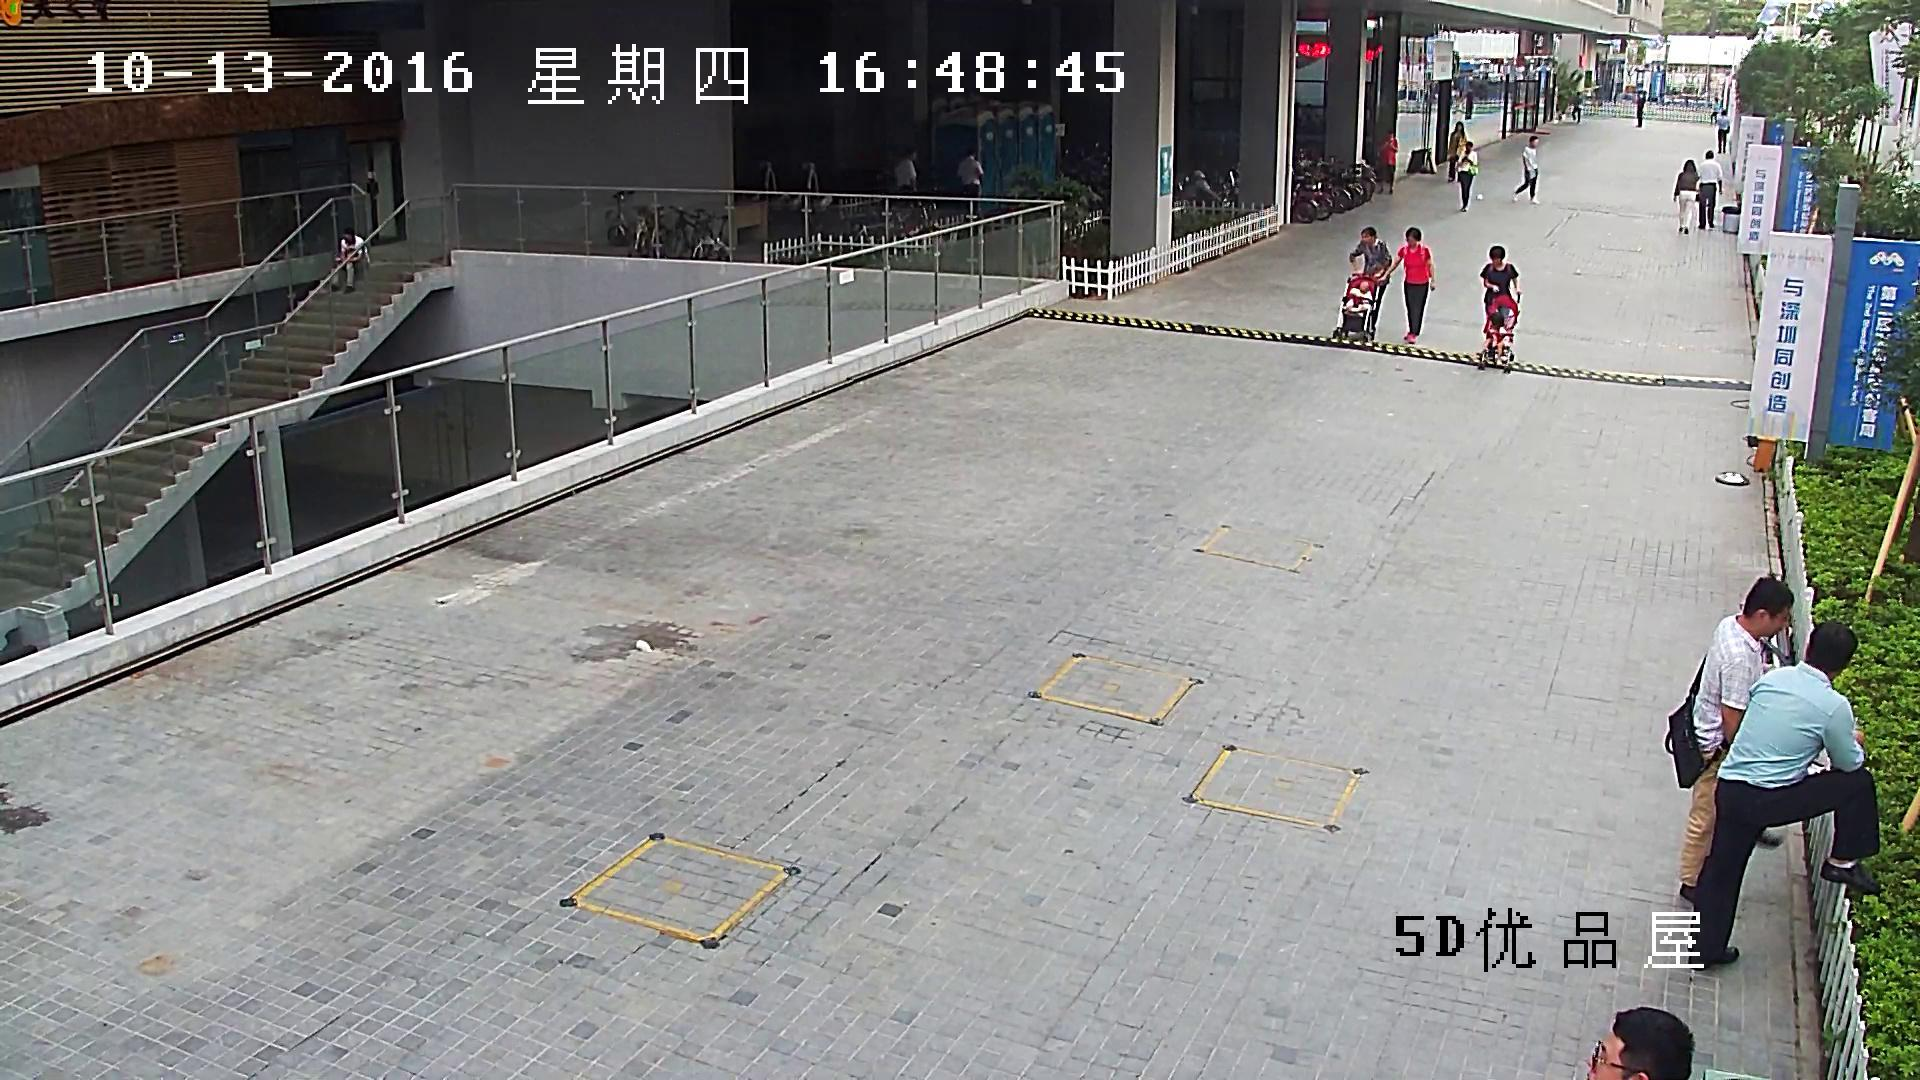person: (1695, 622, 1880, 973), (1667, 579, 1795, 907), (1376, 226, 1434, 345), (1334, 226, 1391, 338), (1481, 246, 1519, 365), (1480, 246, 1519, 347), (1350, 227, 1390, 323), (329, 230, 369, 293), (1510, 136, 1542, 205), (1697, 151, 1722, 230), (1675, 160, 1698, 235), (1457, 142, 1478, 211), (1377, 130, 1398, 193), (1446, 121, 1468, 182), (955, 151, 982, 198), (893, 148, 919, 195), (1344, 280, 1374, 319), (1483, 314, 1507, 360), (1717, 109, 1729, 153), (1572, 91, 1582, 124), (1637, 95, 1644, 128)
